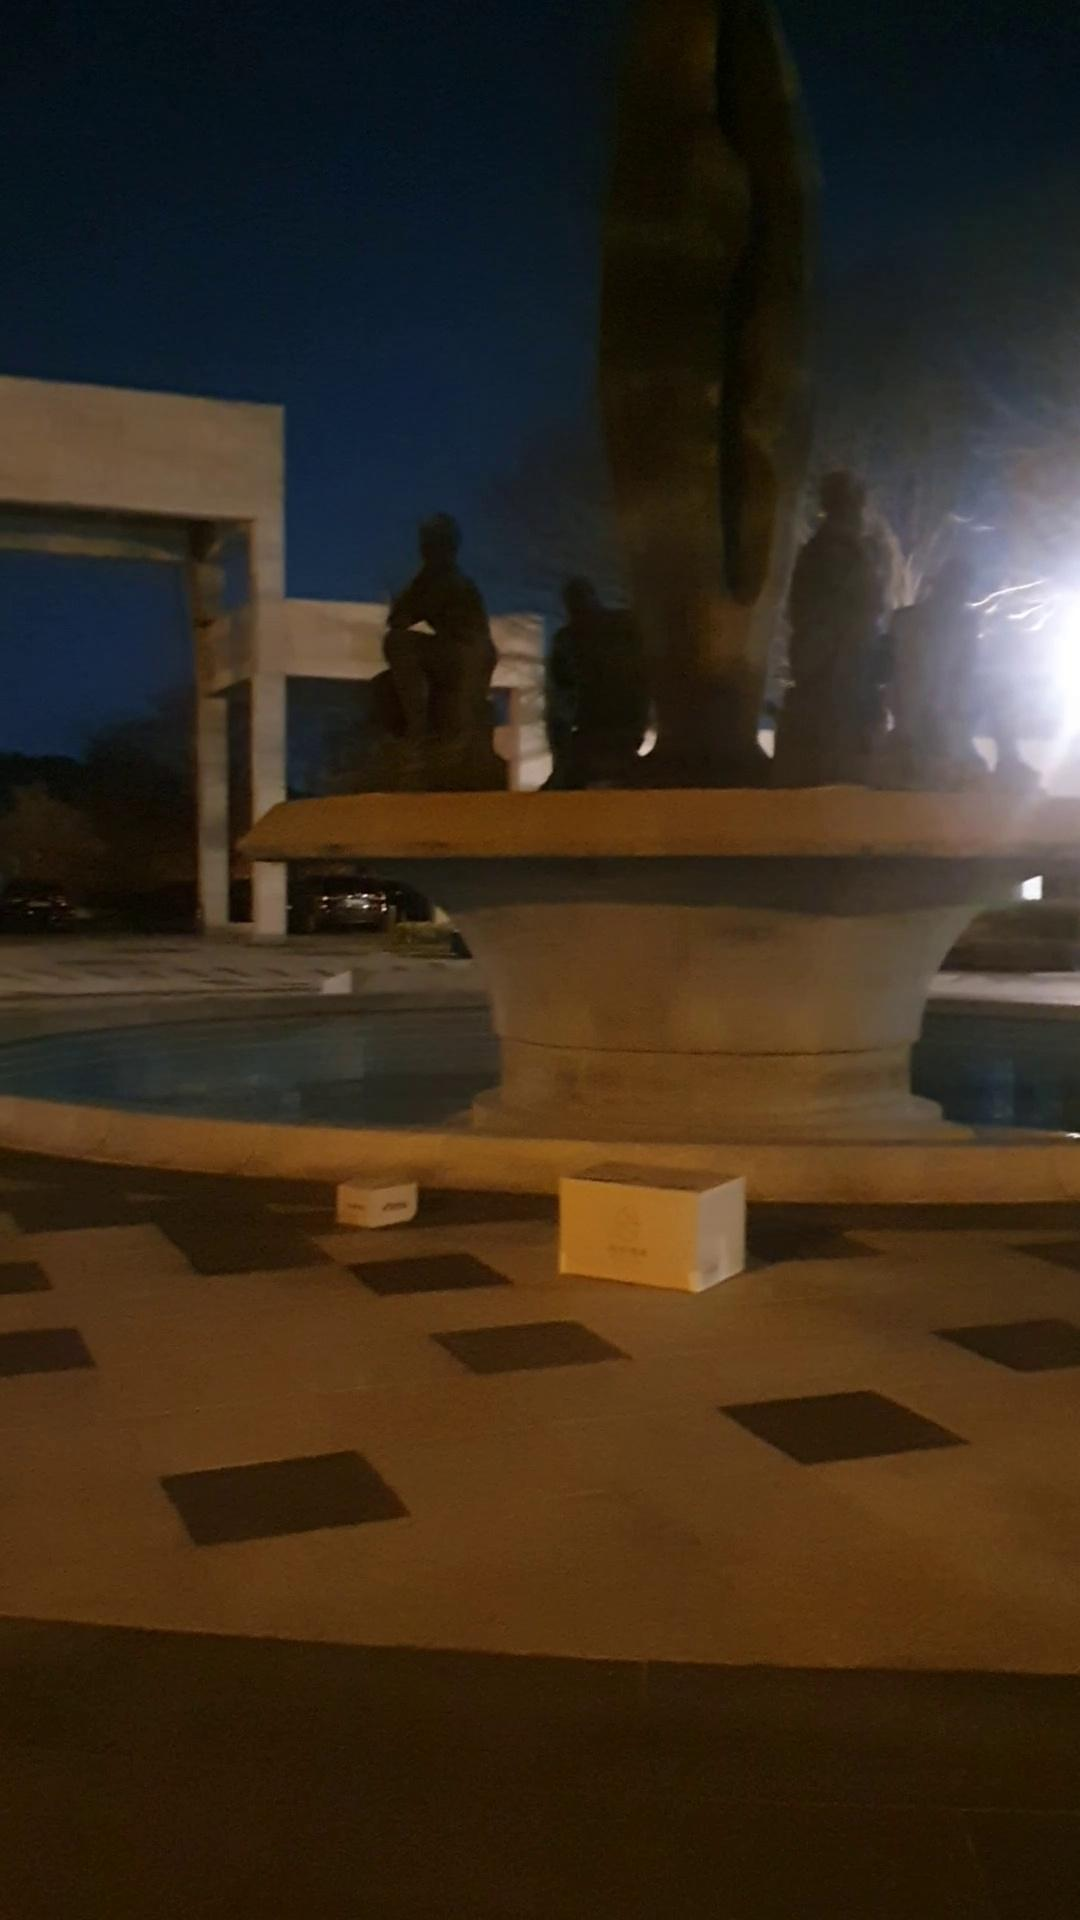Box: (541, 1155, 750, 1309), (313, 1155, 433, 1242)
